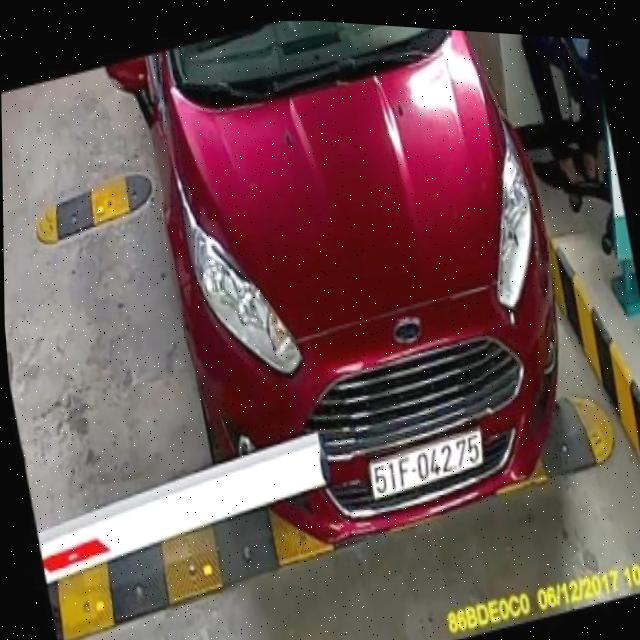car: (100, 7, 581, 571)
plate: (363, 419, 491, 507)
